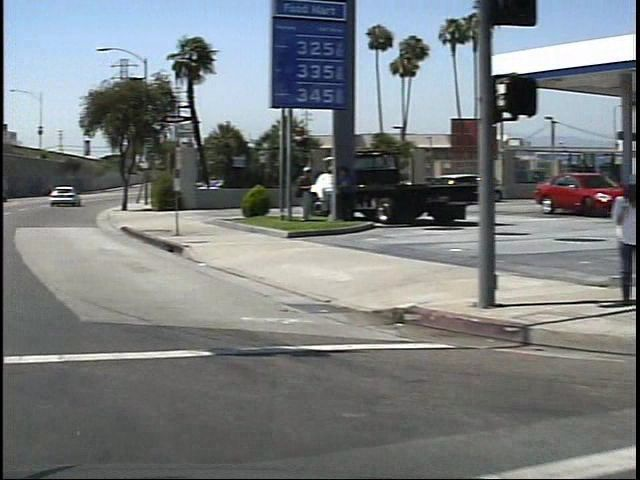person: (590, 175, 638, 303), (285, 165, 310, 228)
